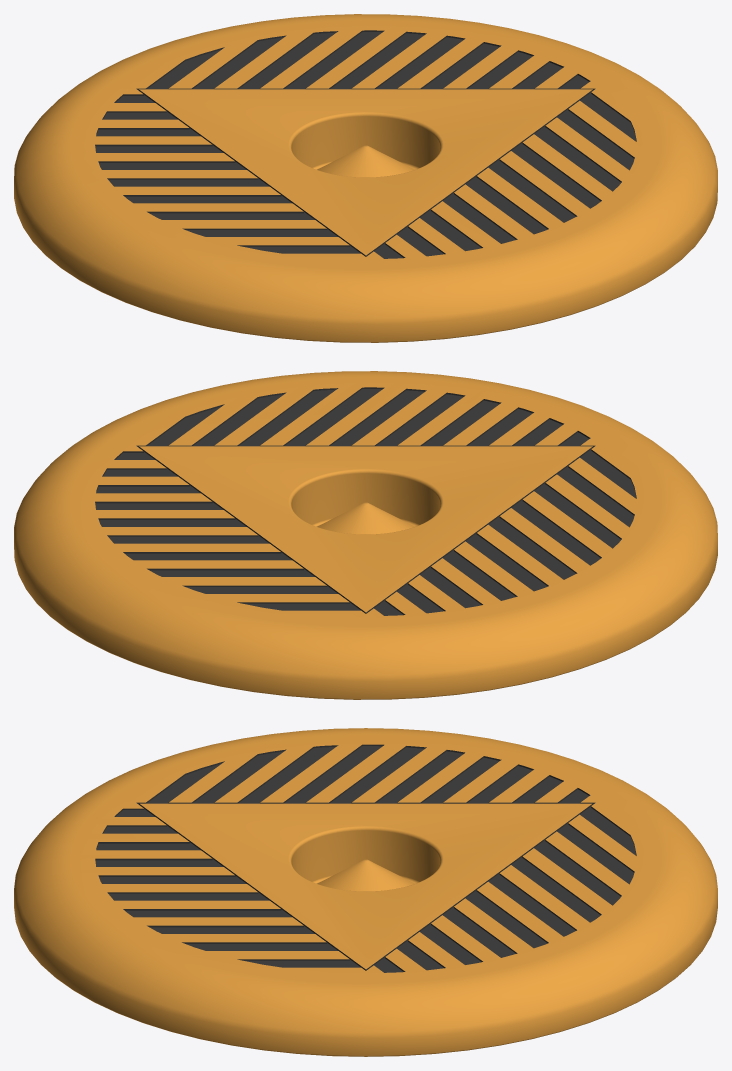
The model's file is frisbee.dae.
The picture shows the model from 3 angles, top to bottom: view 1: azimuth 30°, elevation 25°; view 2: azimuth 150°, elevation 25°; view 3: azimuth 270°, elevation 25°; orthographic projection.
Visible parts, largest first — view 1: group_0 (×5); view 2: group_0 (×5); view 3: group_0 (×5).
Part boxes in pixels (<box>): group_0 (×5): <box>14,14,717,342</box>; group_0 (×5): <box>14,371,717,699</box>; group_0 (×5): <box>14,728,717,1056</box>.
Size of the model in its own units: 13 by 13 by 1.01.
